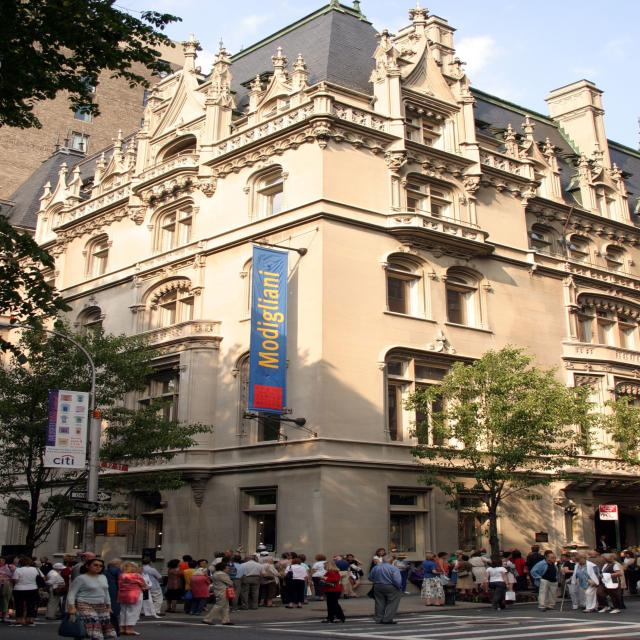body: (66, 558, 118, 640), (366, 555, 404, 625), (10, 556, 46, 627), (200, 561, 237, 626), (116, 560, 147, 636), (564, 553, 600, 613), (596, 552, 628, 614), (529, 553, 561, 612), (480, 558, 516, 610), (318, 561, 347, 624), (419, 552, 451, 607), (237, 554, 267, 610), (140, 557, 167, 617), (137, 564, 162, 620), (44, 562, 68, 620), (102, 558, 123, 624), (225, 554, 248, 613), (257, 556, 283, 608), (282, 558, 308, 608), (562, 552, 584, 610), (163, 558, 184, 614), (607, 553, 627, 610), (466, 552, 493, 594), (188, 567, 211, 616), (453, 555, 478, 597), (6, 554, 22, 619), (524, 547, 546, 594), (275, 552, 294, 604), (309, 554, 328, 601), (196, 559, 213, 611), (6, 555, 19, 619), (333, 554, 351, 600), (392, 553, 412, 594), (500, 551, 520, 592), (183, 560, 198, 614), (221, 556, 236, 609), (346, 554, 364, 597), (508, 550, 526, 592), (71, 552, 96, 582), (346, 554, 362, 598), (557, 554, 571, 600), (60, 560, 79, 591), (450, 554, 464, 593), (408, 560, 426, 590), (207, 551, 226, 577), (435, 552, 450, 576), (586, 550, 604, 570), (610, 544, 640, 556), (445, 549, 466, 566), (38, 556, 54, 577), (554, 548, 569, 570), (596, 534, 610, 556), (178, 554, 193, 574), (620, 550, 637, 566), (372, 548, 387, 566), (478, 548, 492, 565), (252, 544, 268, 558), (527, 544, 545, 556), (258, 551, 274, 564), (30, 556, 43, 568), (224, 548, 235, 560), (567, 544, 579, 553), (297, 553, 307, 563), (62, 554, 70, 566), (498, 550, 506, 560), (288, 552, 298, 560), (593, 548, 601, 558), (489, 554, 502, 559), (388, 553, 396, 560), (544, 550, 554, 555), (252, 555, 258, 563), (508, 547, 517, 552), (564, 551, 572, 556), (94, 554, 101, 558), (235, 551, 240, 556)
